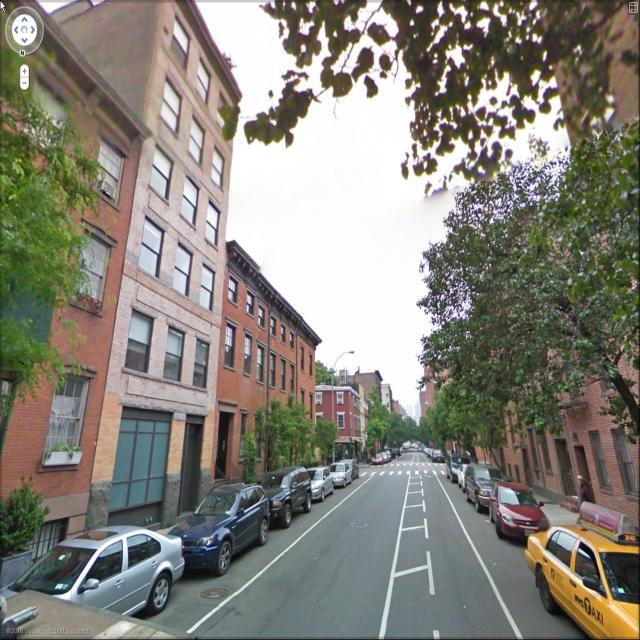b_1: (110, 1, 228, 464), (218, 266, 322, 420), (315, 379, 367, 450)
b_2: (5, 1, 134, 537), (534, 148, 640, 514), (457, 200, 562, 494), (539, 2, 640, 212), (418, 332, 484, 482)
